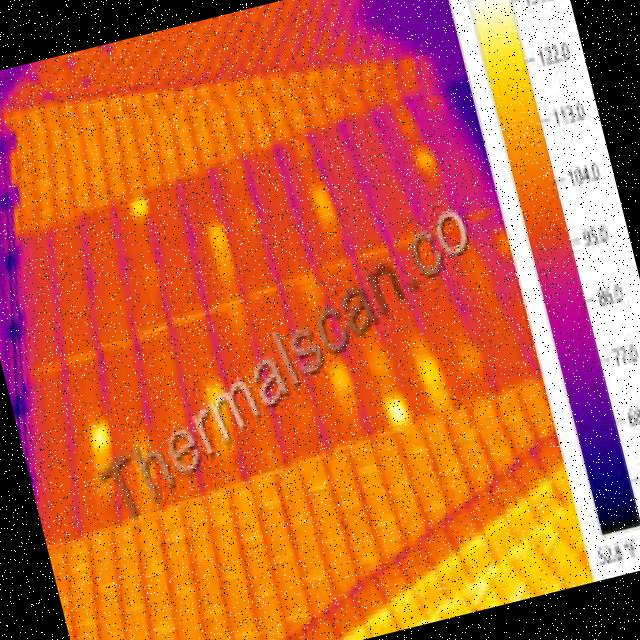Hotspot: (200, 370, 244, 461), (202, 212, 246, 293), (412, 344, 452, 420), (302, 173, 348, 234), (370, 382, 414, 436), (402, 131, 442, 177), (87, 418, 116, 462), (328, 362, 353, 398), (126, 192, 150, 220)
